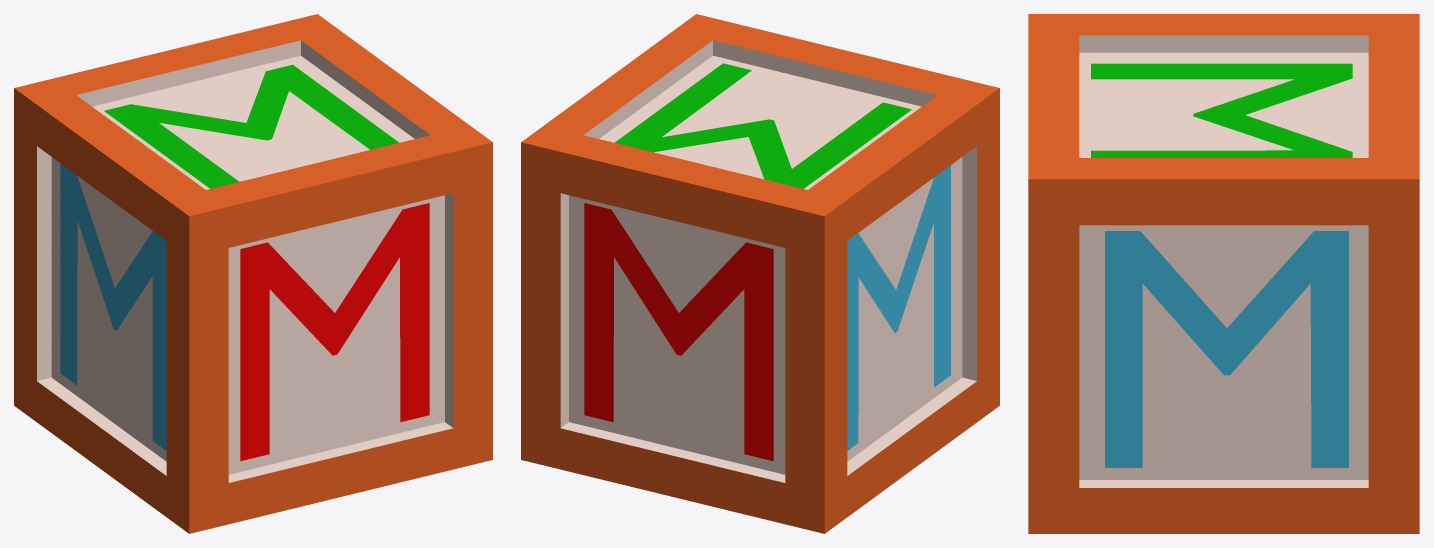
File: Prop_KidsCube_M.fbx
3 views of the same model, side by side, from view 1: azimuth 30°, elevation 25°; view 2: azimuth 150°, elevation 25°; view 3: azimuth 270°, elevation 25° (orthographic). The views are drawn at different scales.
Parts seen in each view (by area): view 1: Prop_KidsCube_M; view 2: Prop_KidsCube_M; view 3: Prop_KidsCube_M.
Boxes of the visible parts, x1,y1,x2,y2 form: Prop_KidsCube_M: (14, 14, 492, 533); Prop_KidsCube_M: (521, 14, 999, 533); Prop_KidsCube_M: (1028, 14, 1419, 533).
Bounding box in the file's own units: 20.93 × 20.93 × 20.93.
